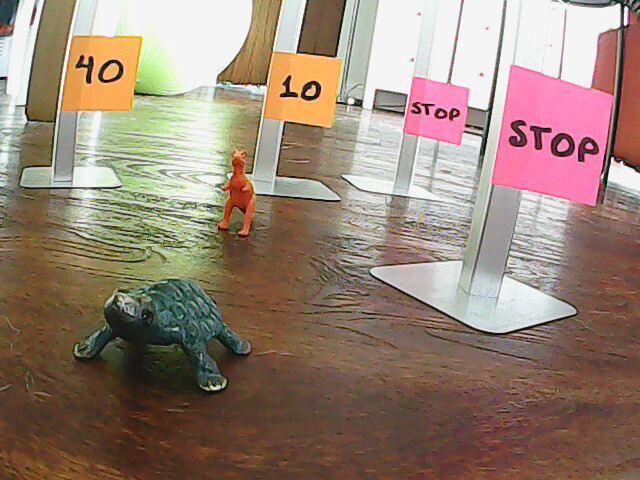10: (273, 62, 332, 121)
40: (72, 43, 130, 109)
dinosaur: (214, 143, 263, 243)
stop: (504, 98, 601, 189), (410, 88, 462, 143)
turtle: (72, 274, 263, 398)
